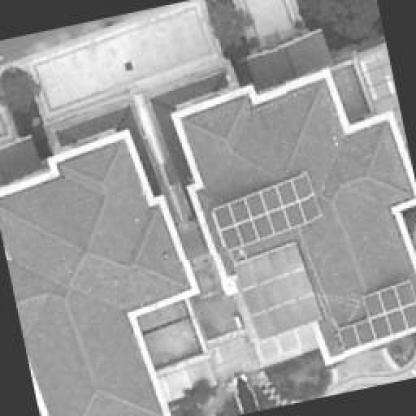solar-pv-panel: (212, 172, 321, 251), (337, 279, 416, 351)
